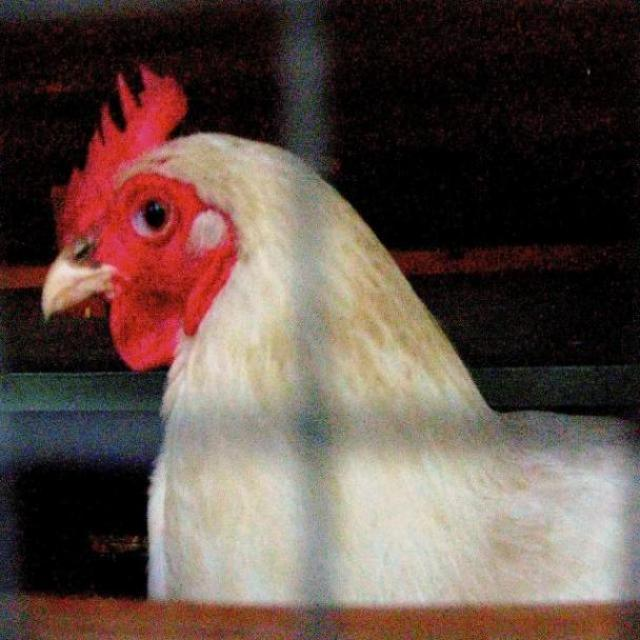Chicken: (21, 87, 578, 591)
